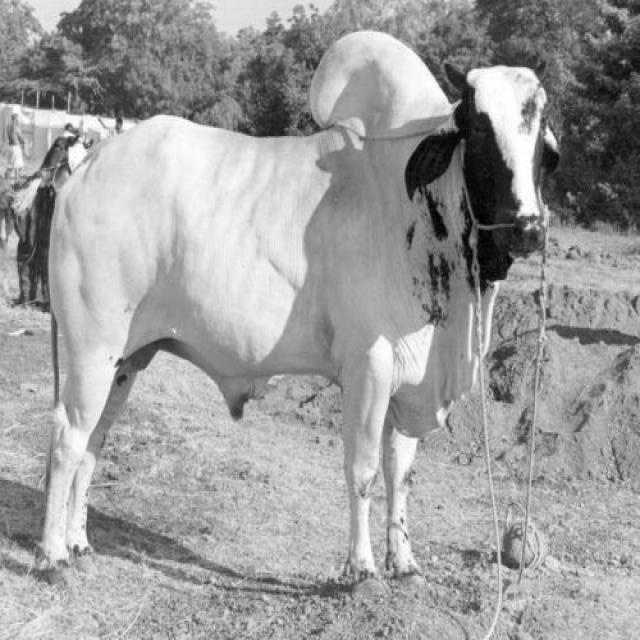Cow: (34, 29, 560, 602)
